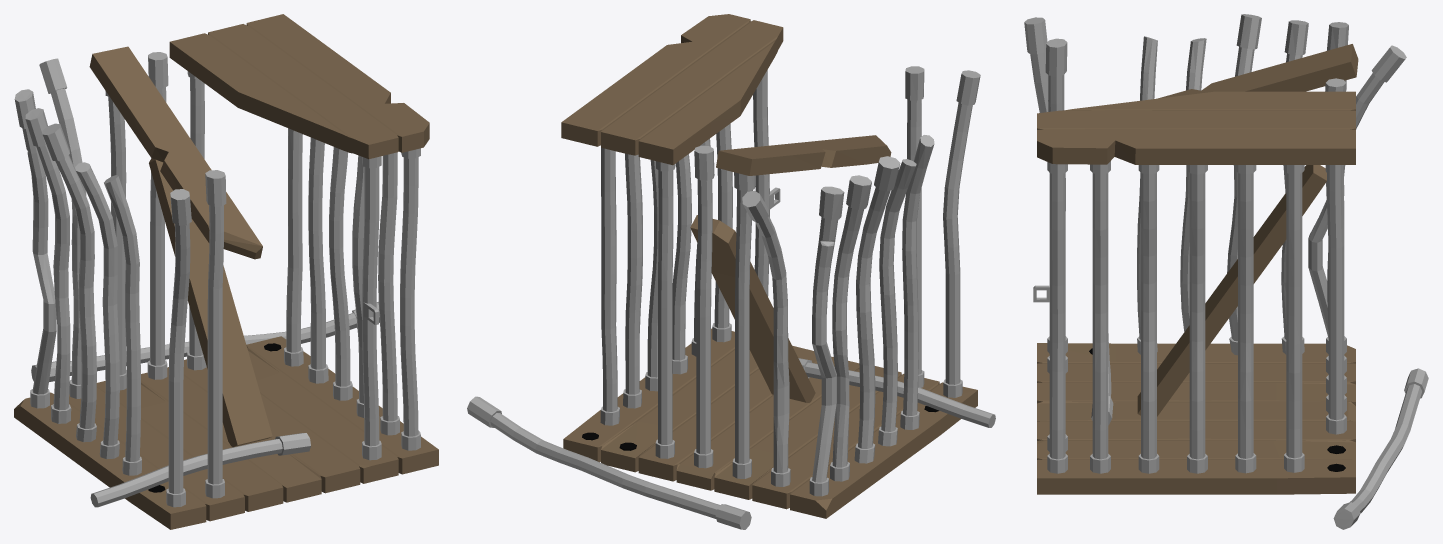
Rendered from Cage broken.fbx.
The picture shows the model from 3 angles, left to right: view 1: azimuth 30°, elevation 25°; view 2: azimuth 150°, elevation 25°; view 3: azimuth 270°, elevation 25°; orthographic projection. The views are drawn at different scales.
Visible parts, largest first — view 1: Cage broken; view 2: Cage broken; view 3: Cage broken.
Part boxes in pixels (x1,y1,x2,y2): Cage broken: [14, 14, 438, 529]; Cage broken: [467, 14, 995, 529]; Cage broken: [1024, 14, 1428, 529].
Bounding box in the file's own units: 3.66 × 2.95 × 3.04.
